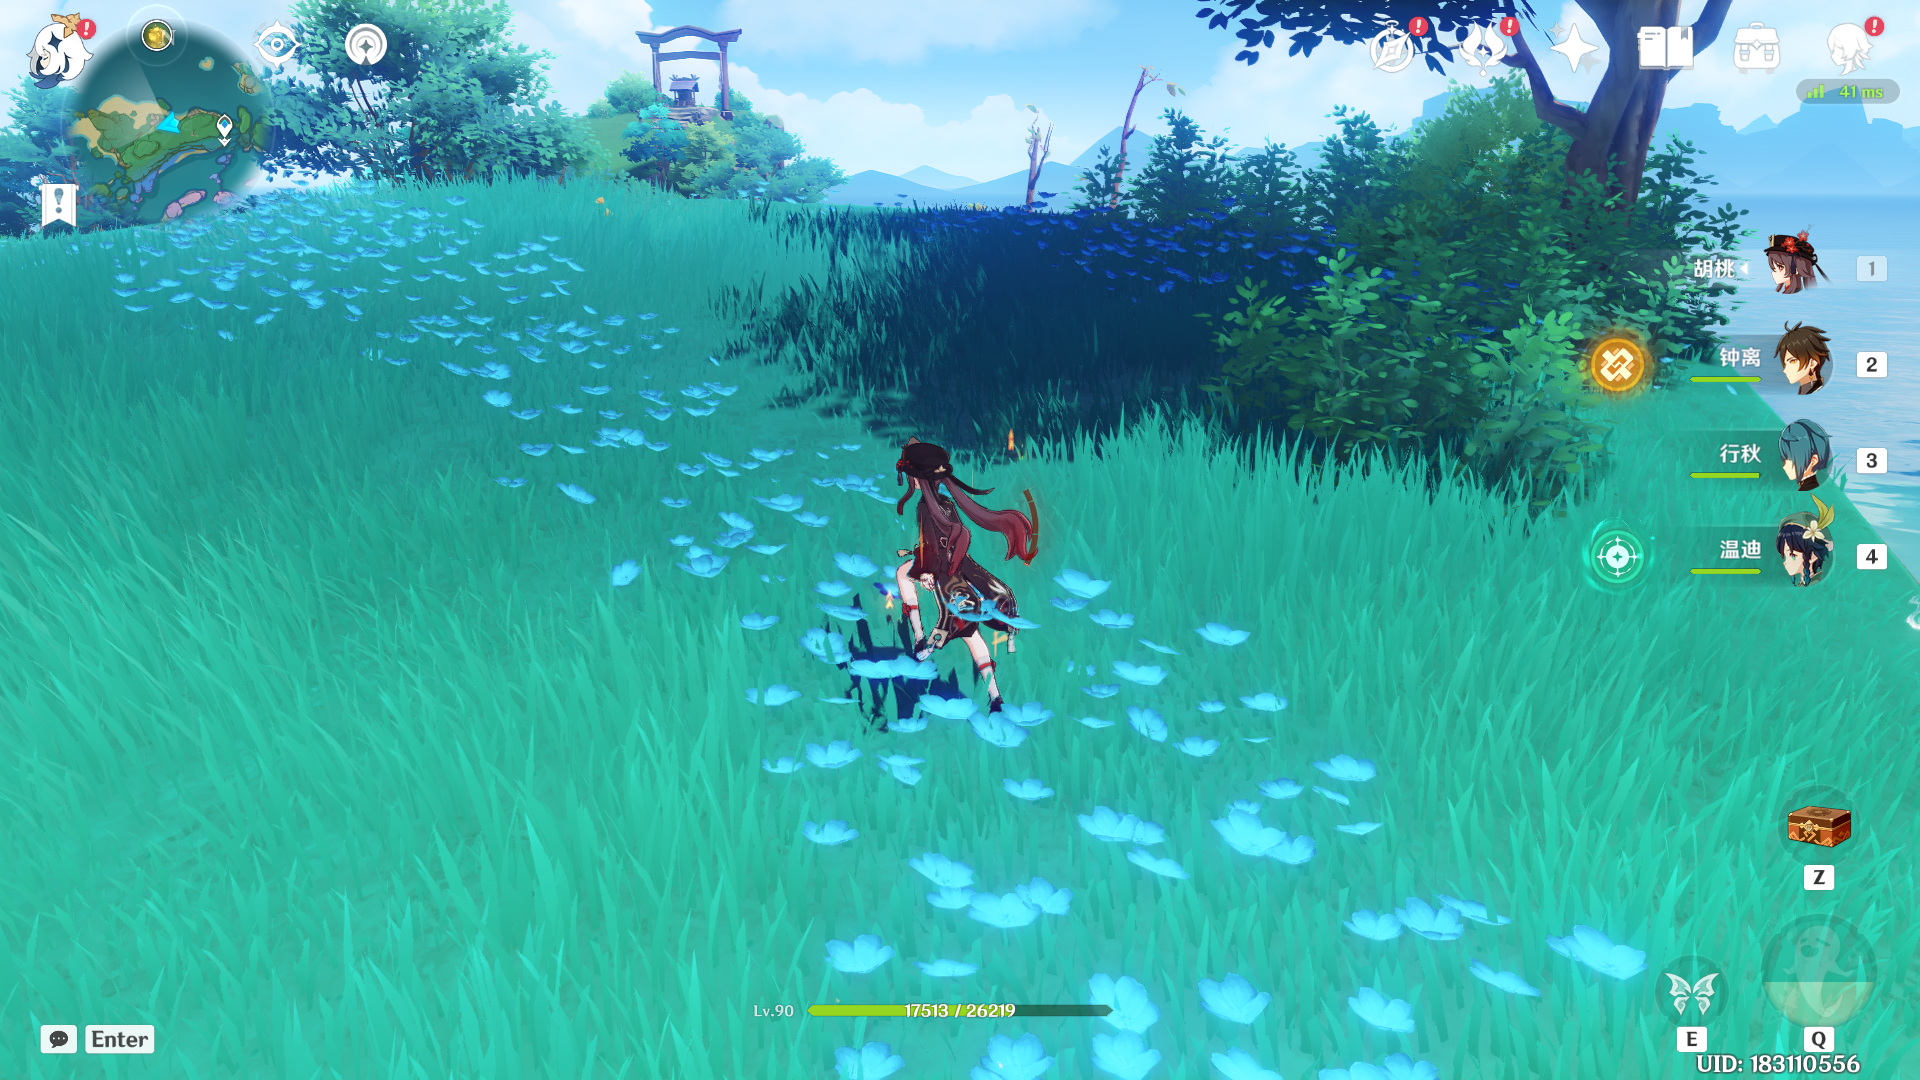character: (822, 400, 1065, 752)
